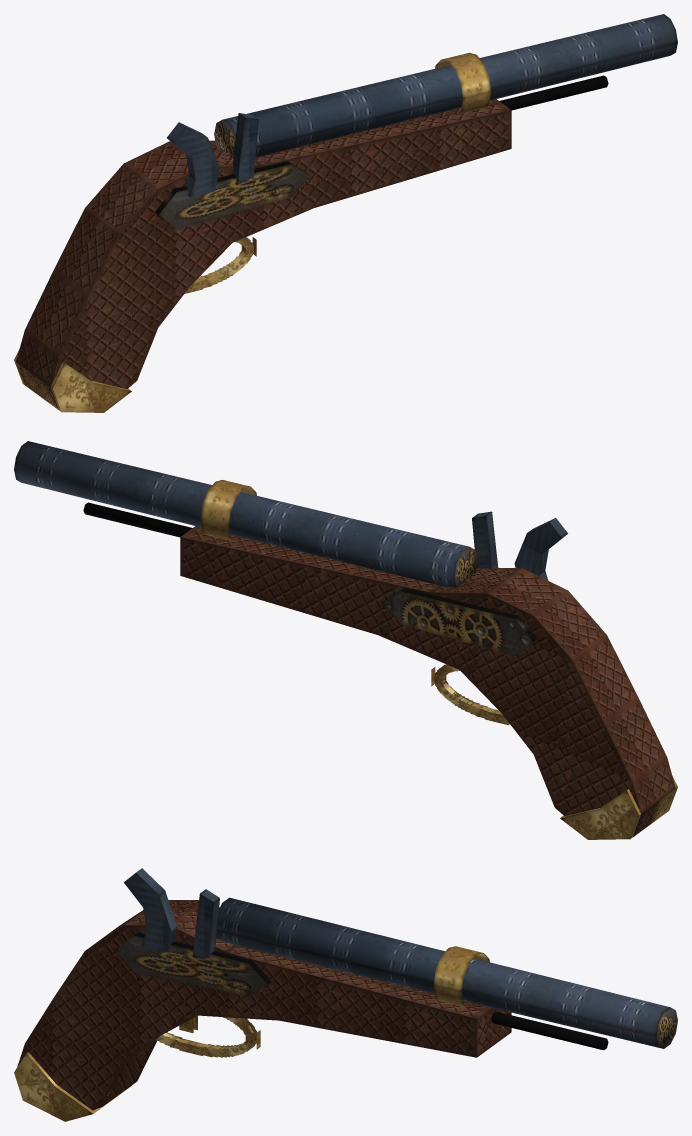
Rendered from flintlock.glb.
3 views of the same model, one above another, from view 1: azimuth 30°, elevation 25°; view 2: azimuth 150°, elevation 25°; view 3: azimuth 330°, elevation 25° (orthographic).
Visible parts, largest first — view 1: GEO-flintlock; view 2: GEO-flintlock; view 3: GEO-flintlock.
Part boxes in pixels (<box>): GEO-flintlock: <box>14,14,677,412</box>; GEO-flintlock: <box>14,441,677,839</box>; GEO-flintlock: <box>14,868,677,1121</box>.
Bounding box in the file's own units: 0.359 × 0.147 × 0.045.
Materials: 1 (1 with a texture image).
